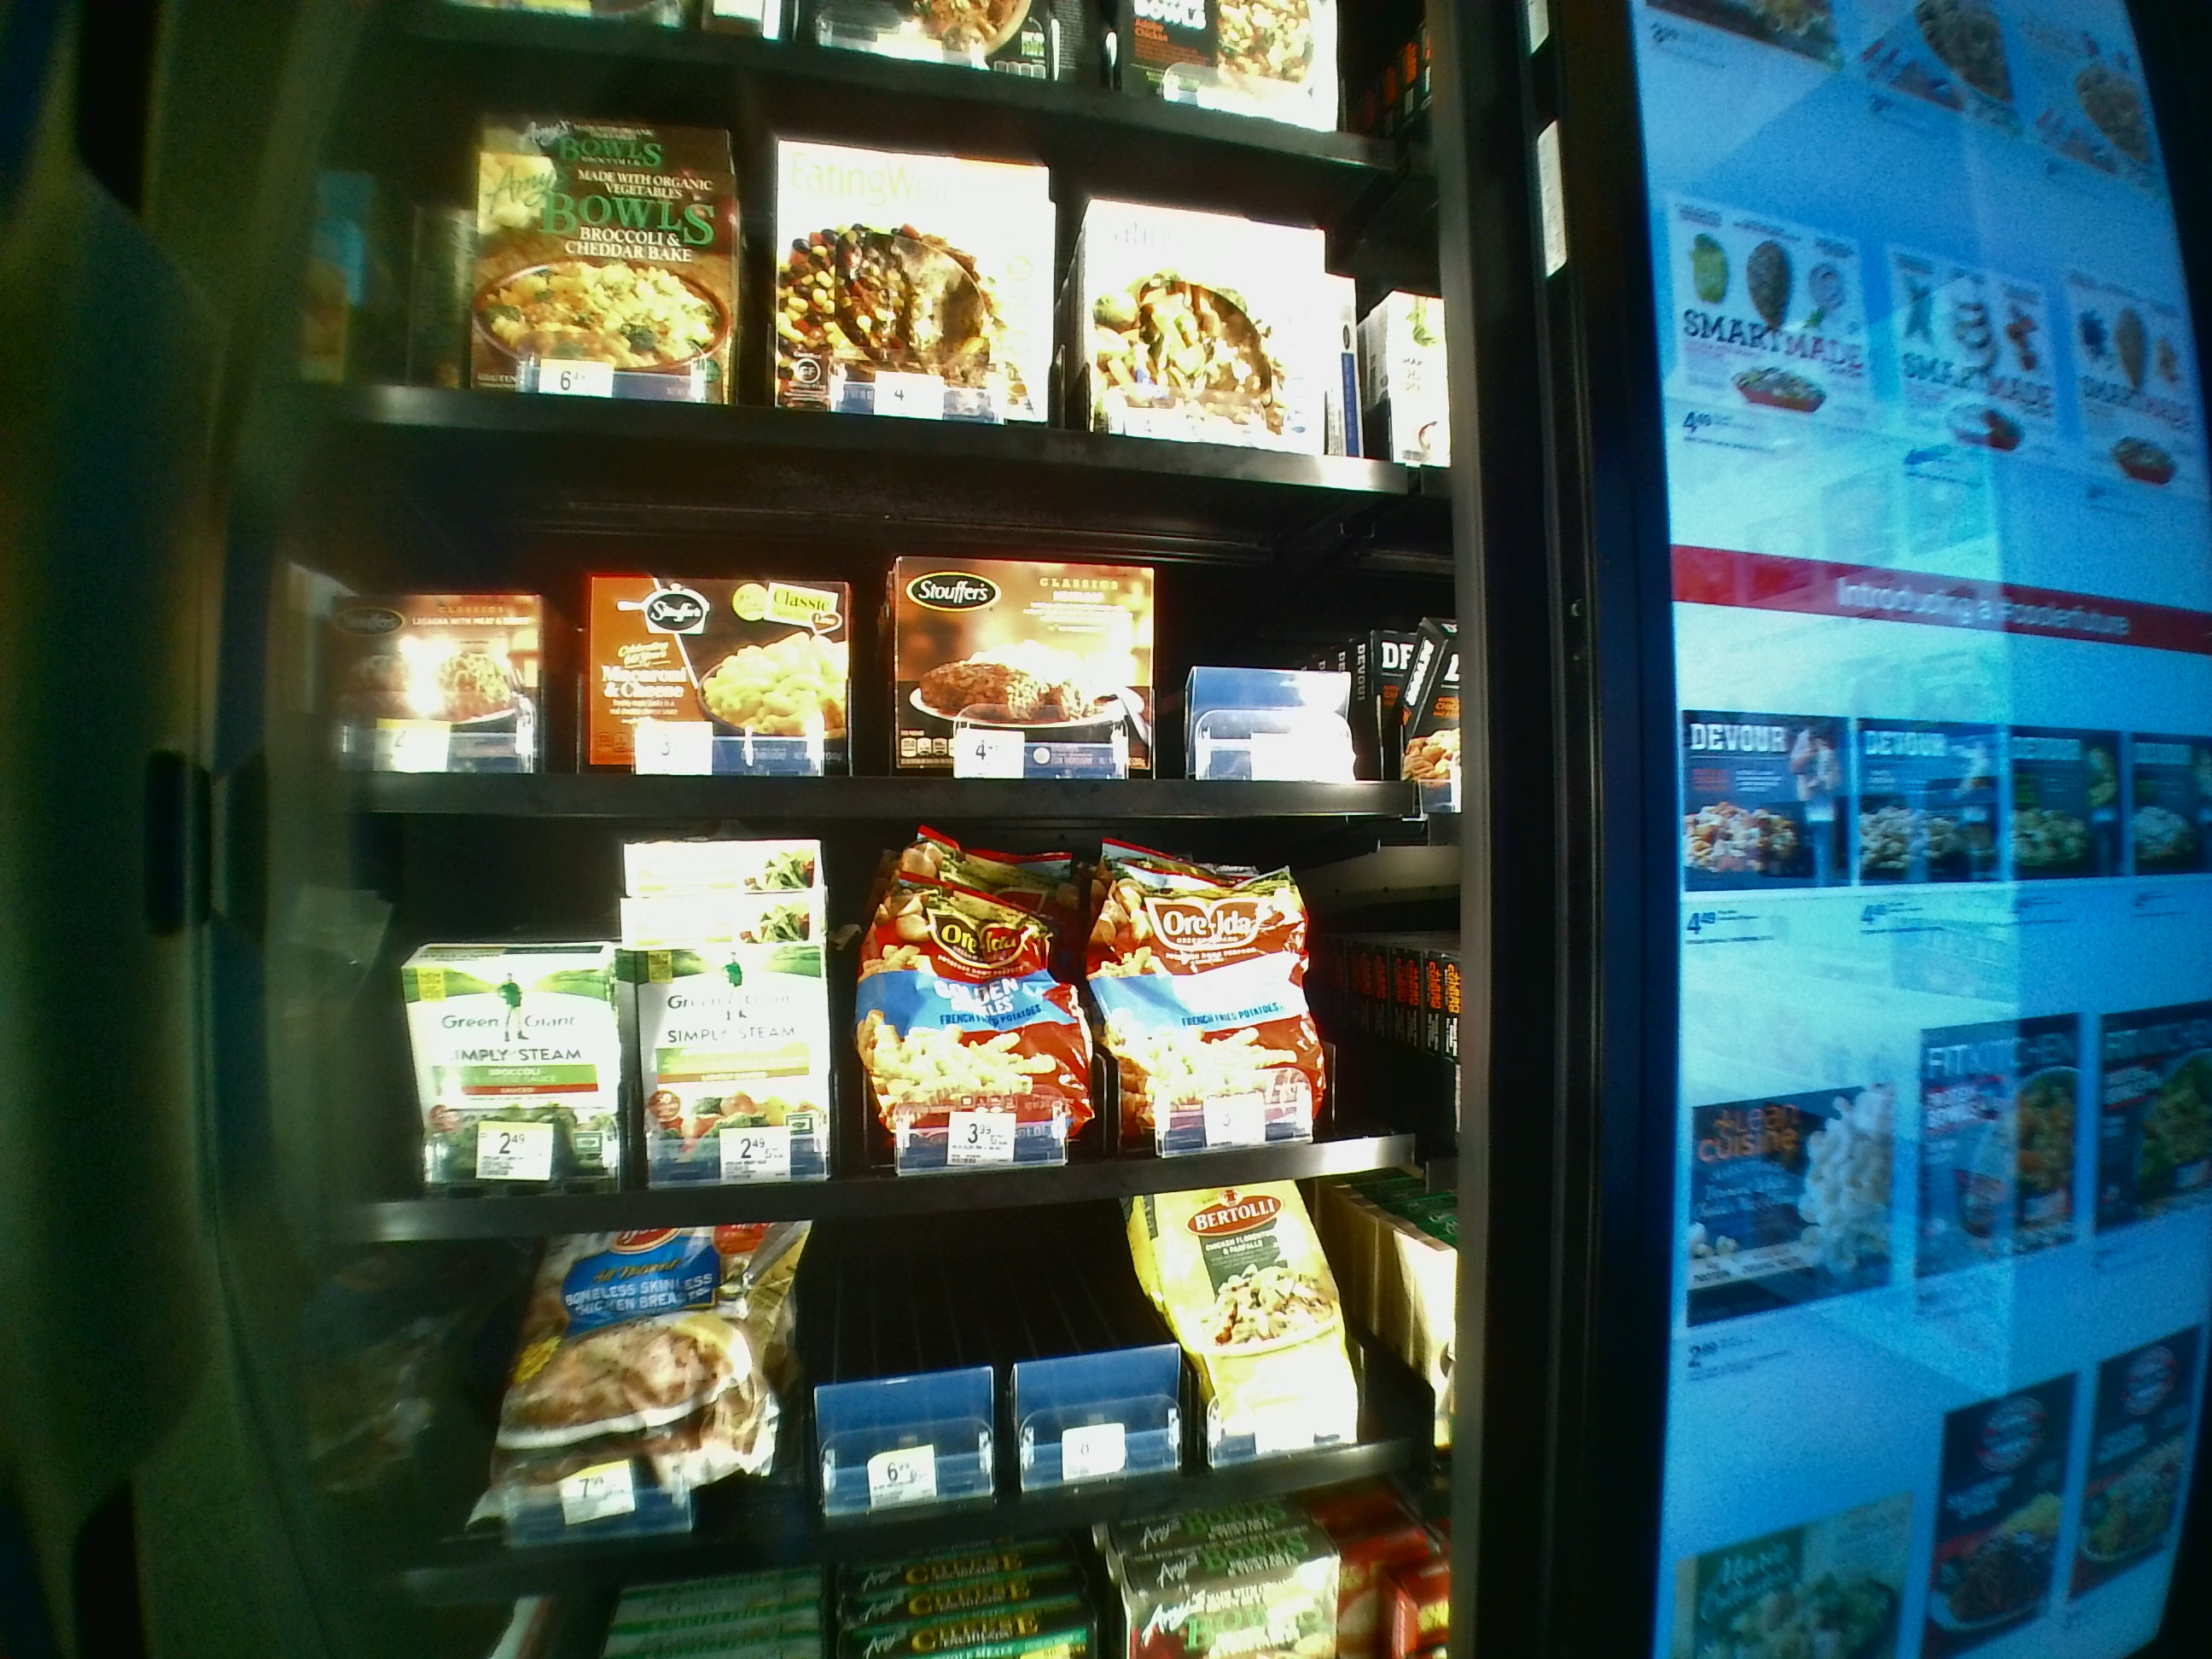shelf: (286, 836, 1435, 1248), (284, 420, 1439, 819)
